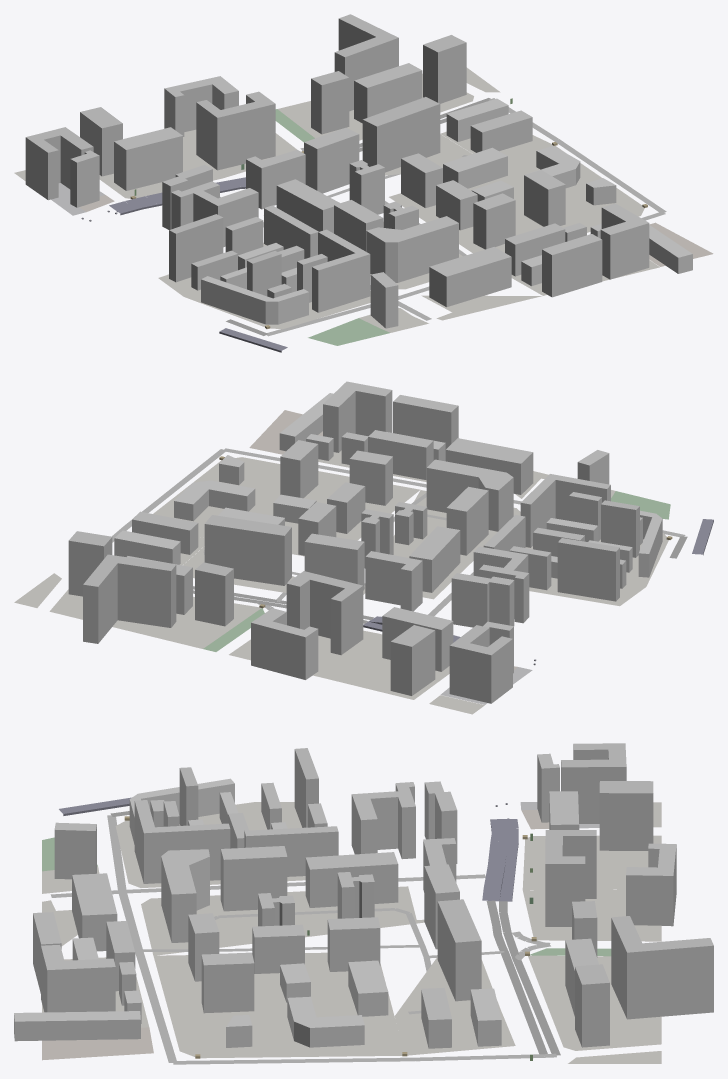
3 renders of one model, top to bottom at view 1: azimuth 30°, elevation 25°; view 2: azimuth 150°, elevation 25°; view 3: azimuth 270°, elevation 25°, orthographic. The views are drawn at different scales.
Bounding box in the file's own units: 513 × 60.94 × 565.
